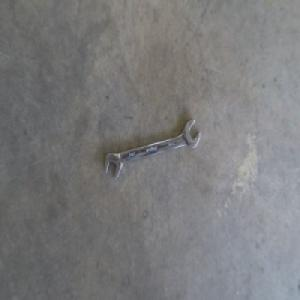Wrench: (104, 117, 200, 179)
